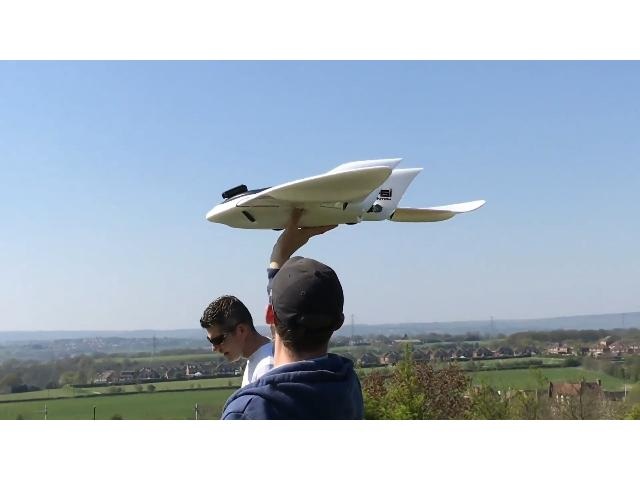Anti-Drone: (178, 145, 500, 251)
